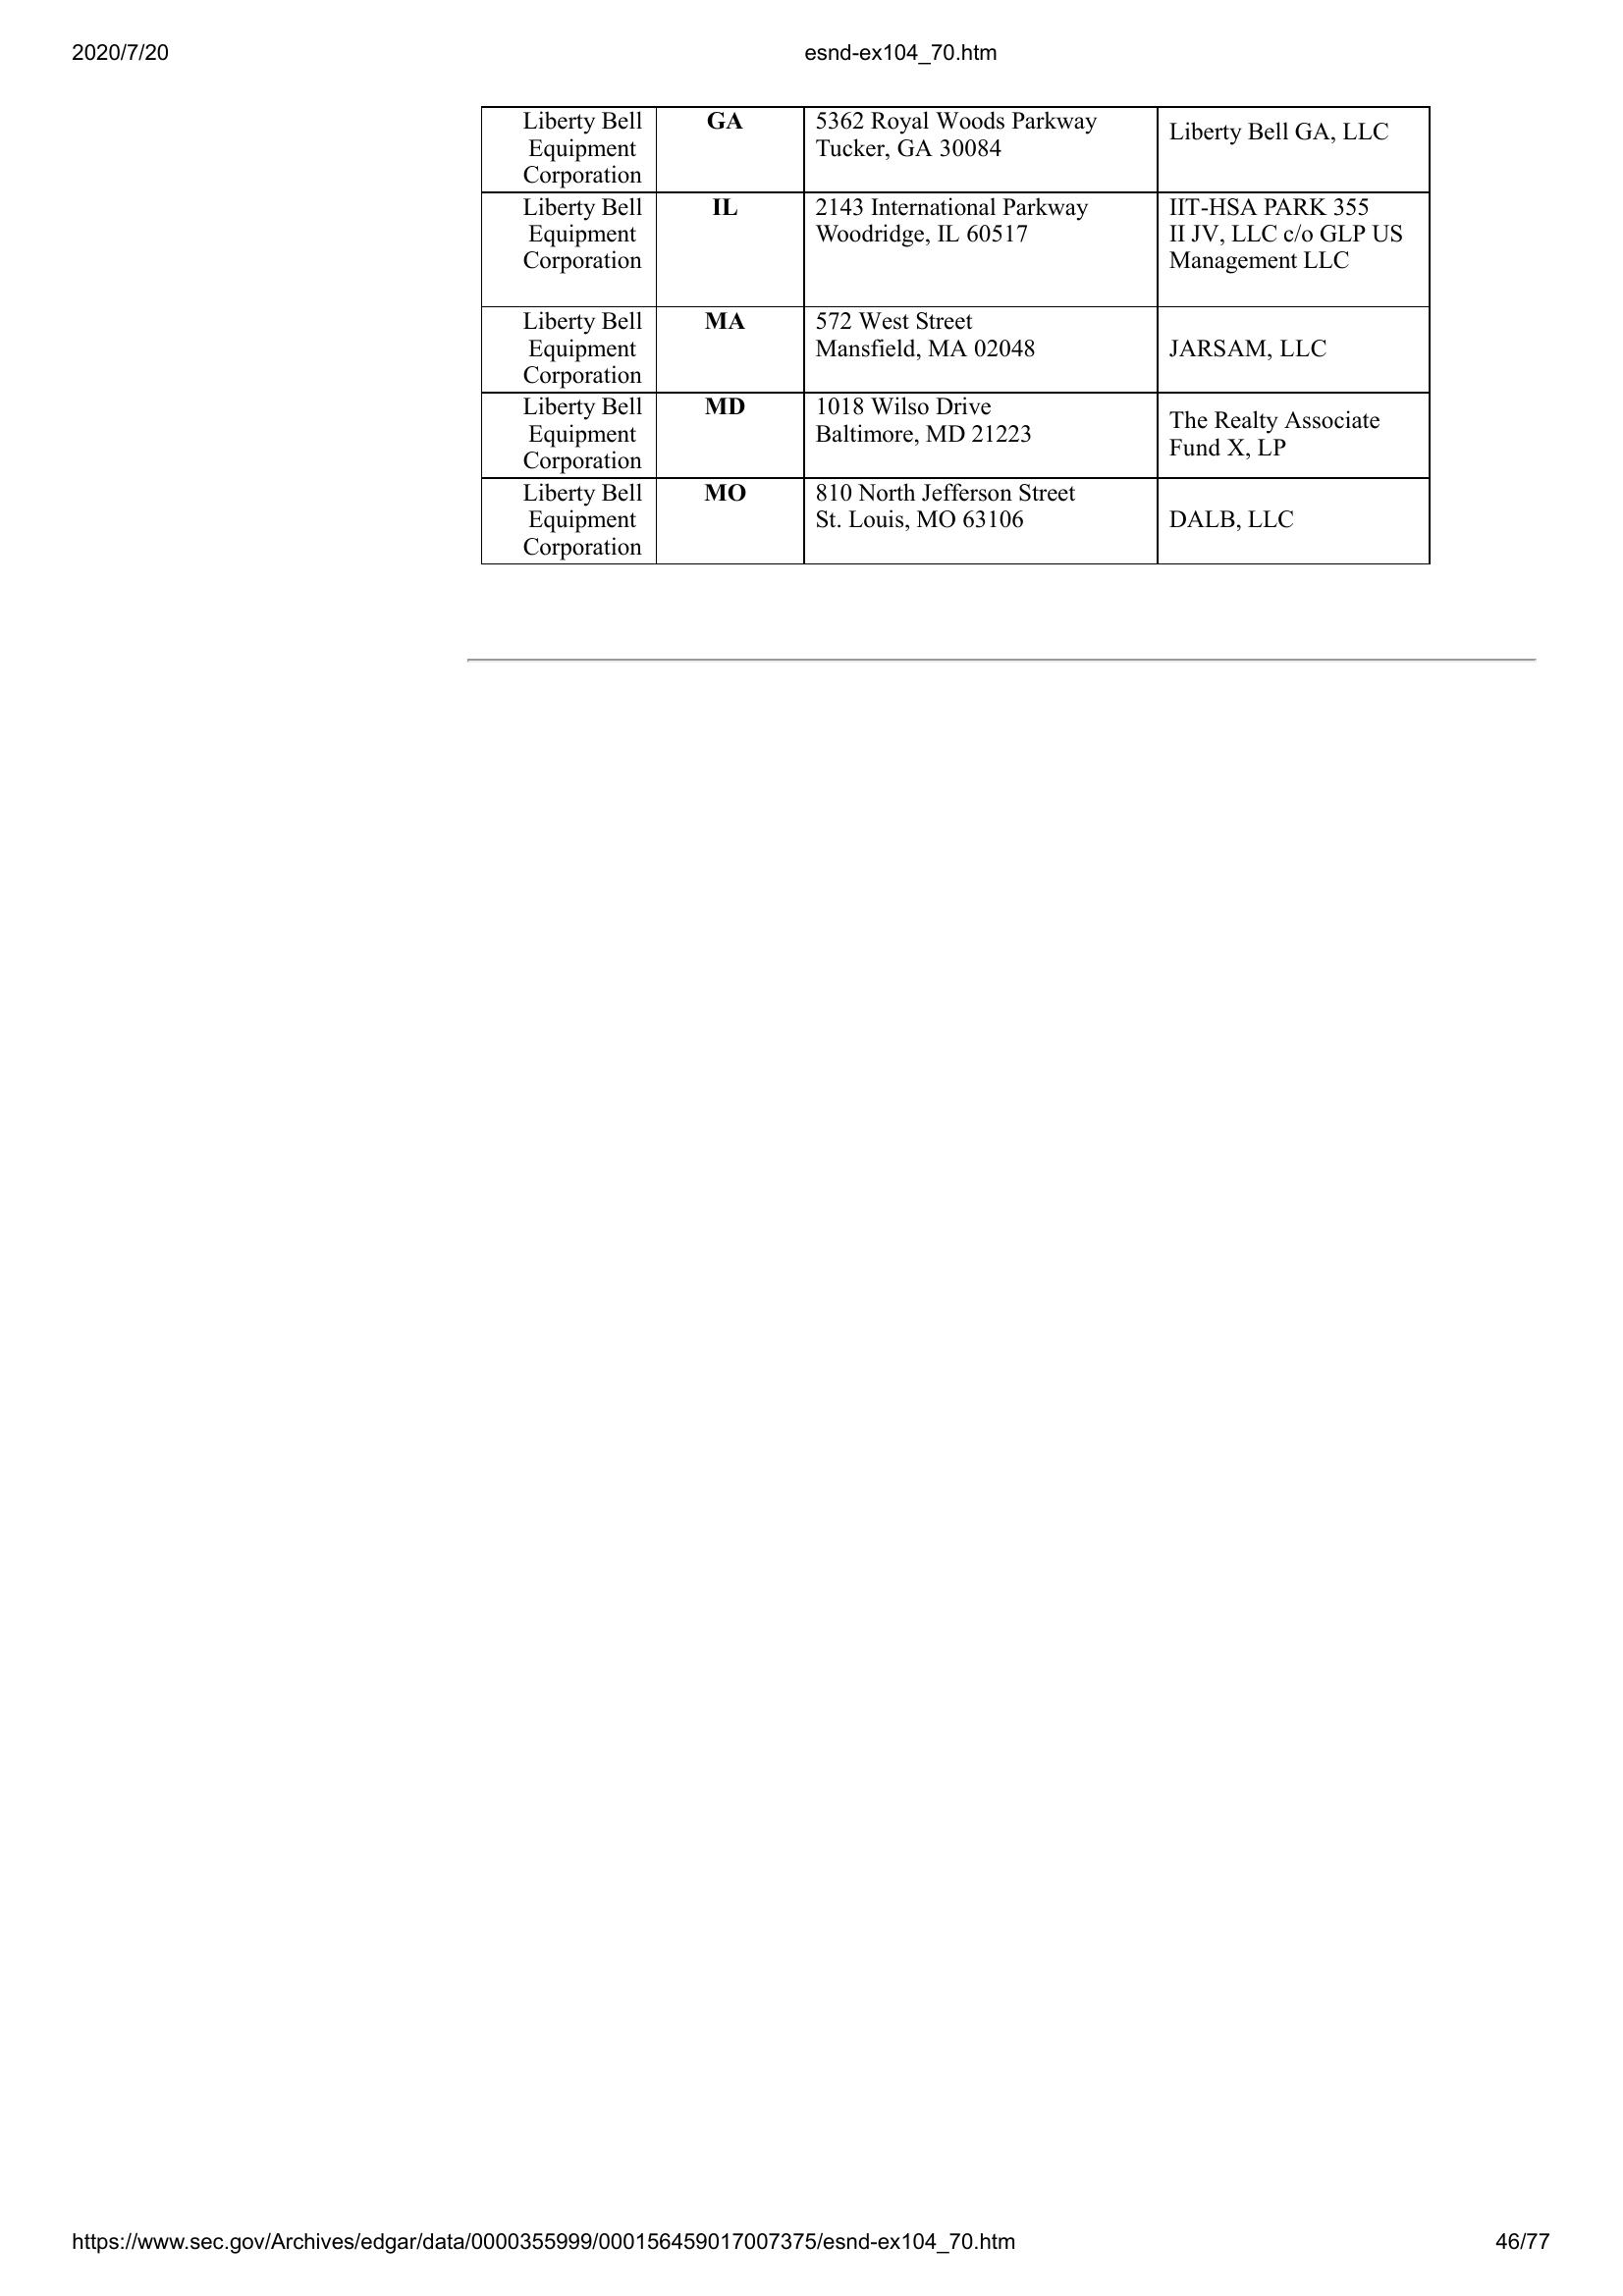table: (478, 102, 1437, 567)
